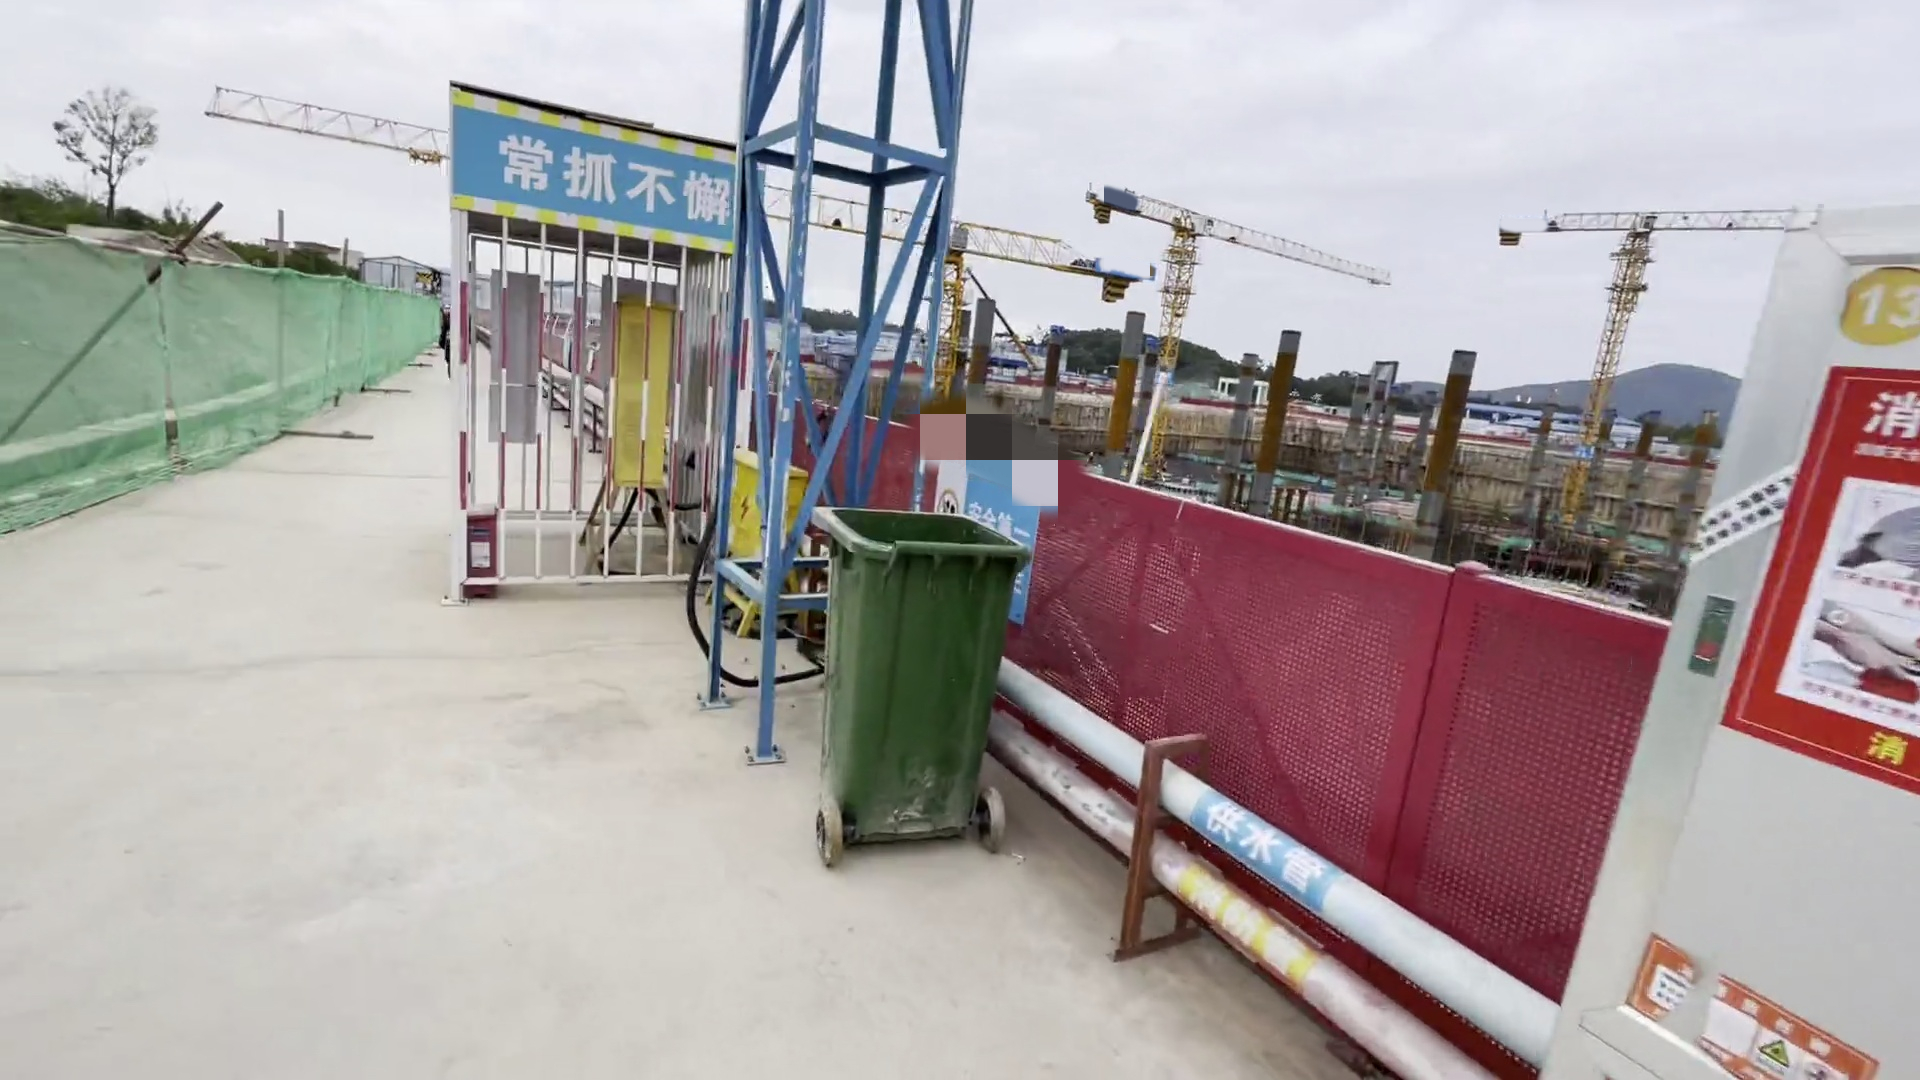ebox: (599, 314, 688, 538), (708, 430, 803, 597)
fence: (799, 375, 1551, 978)
slogan: (1651, 248, 1920, 1069), (451, 91, 736, 244)
